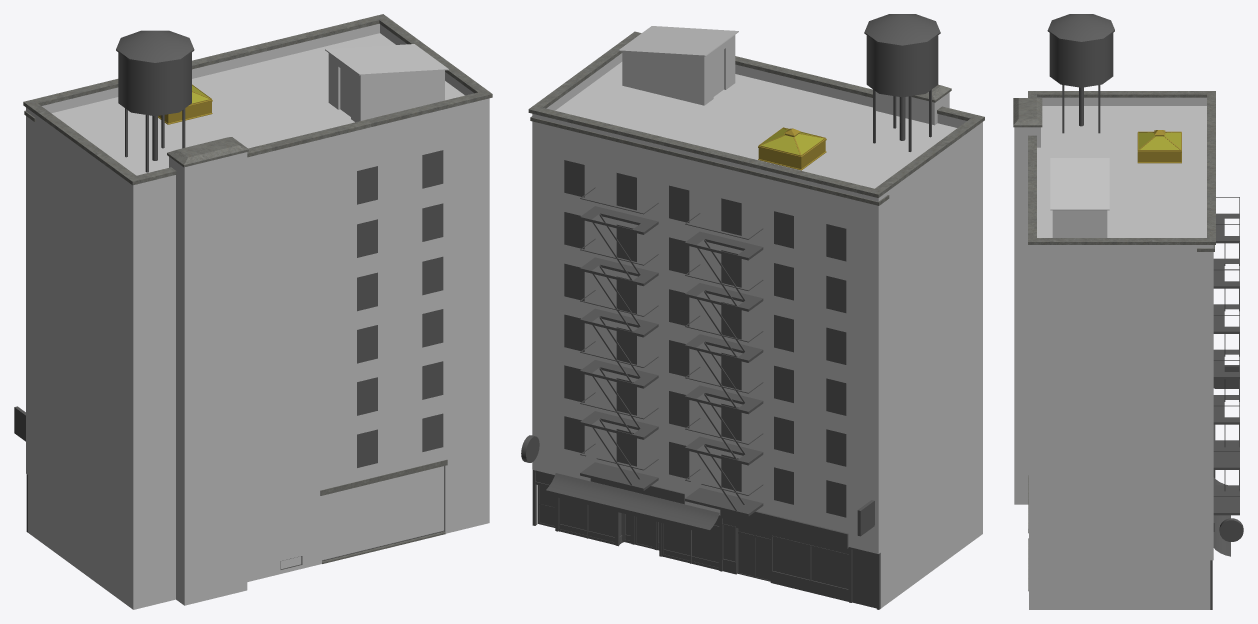
The model's file is mcp_building_10_LOD_1.FBX.
3 views of the same model, side by side, from view 1: azimuth 30°, elevation 25°; view 2: azimuth 150°, elevation 25°; view 3: azimuth 270°, elevation 25° (orthographic). The views are drawn at different scales.
Visible parts, largest first — view 1: mcp_building_10_walls_01, mcp_building_10_rooftop, mcp_building_10, mcp_building_10_concrete_01, mcp_building_10_fence, mcp_building_10_props_03, mcp_building_10_metal_roof, mcp_building_10_concrete_02, mcp_building_10_props_02; view 2: mcp_building_10_walls_01, mcp_building_10, mcp_building_10_rooftop, mcp_building_10_props_01, mcp_building_10_concrete_01, mcp_building_10_props_03, mcp_building_10_metal_roof, mcp_building_10_props_02; view 3: mcp_building_10_walls_01, mcp_building_10_rooftop, mcp_building_10_concrete_01, mcp_building_10_props_03, mcp_building_10_props_01, mcp_building_10_metal_roof, mcp_building_10, mcp_building_10_props_02.
Part boxes in pixels (bbox=[...]): mcp_building_10_walls_01: bbox=[26, 23, 489, 609]; mcp_building_10_rooftop: bbox=[52, 33, 464, 175]; mcp_building_10: bbox=[14, 150, 443, 569]; mcp_building_10_concrete_01: bbox=[23, 14, 492, 185]; mcp_building_10_fence: bbox=[322, 466, 443, 560]; mcp_building_10_props_03: bbox=[116, 30, 194, 172]; mcp_building_10_metal_roof: bbox=[325, 44, 448, 75]; mcp_building_10_concrete_02: bbox=[320, 459, 447, 563]; mcp_building_10_props_02: bbox=[158, 84, 212, 124]; mcp_building_10_walls_01: bbox=[532, 35, 982, 608]; mcp_building_10: bbox=[521, 160, 880, 609]; mcp_building_10_rooftop: bbox=[555, 62, 957, 188]; mcp_building_10_props_01: bbox=[580, 187, 763, 516]; mcp_building_10_concrete_01: bbox=[528, 31, 984, 205]; mcp_building_10_props_03: bbox=[864, 14, 940, 151]; mcp_building_10_metal_roof: bbox=[618, 26, 738, 56]; mcp_building_10_props_02: bbox=[758, 127, 826, 170]; mcp_building_10_walls_01: bbox=[1014, 97, 1213, 609]; mcp_building_10_rooftop: bbox=[1037, 106, 1206, 237]; mcp_building_10_concrete_01: bbox=[1013, 91, 1215, 251]; mcp_building_10_props_03: bbox=[1047, 14, 1114, 133]; mcp_building_10_props_01: bbox=[1213, 197, 1239, 515]; mcp_building_10_metal_roof: bbox=[1050, 158, 1109, 210]; mcp_building_10: bbox=[1210, 365, 1243, 609]; mcp_building_10_props_02: bbox=[1137, 130, 1181, 163].
Bounding box in the file's own units: 2545 × 3672 × 1640.
